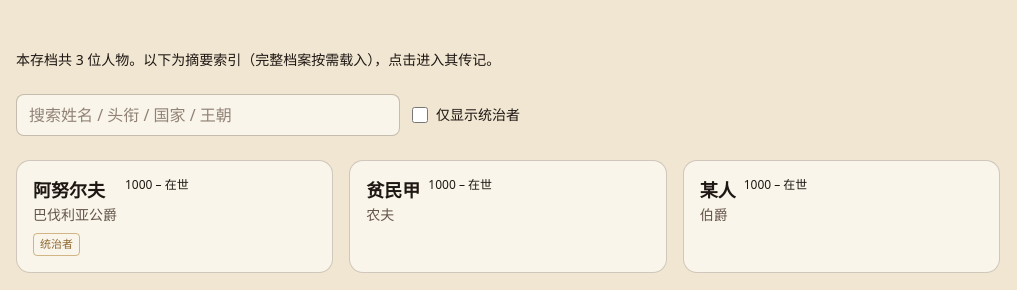
Test case: SelectPage（搜索 / 筛选 / 导航） › 按头衔搜索过滤
The width and height of the screenshot is (1017, 290).
Type "伯爵" into the field with placeholder "搜索姓名 / 头衔 / 国家 / 王朝" at [208, 115], box [16,94,400,136]
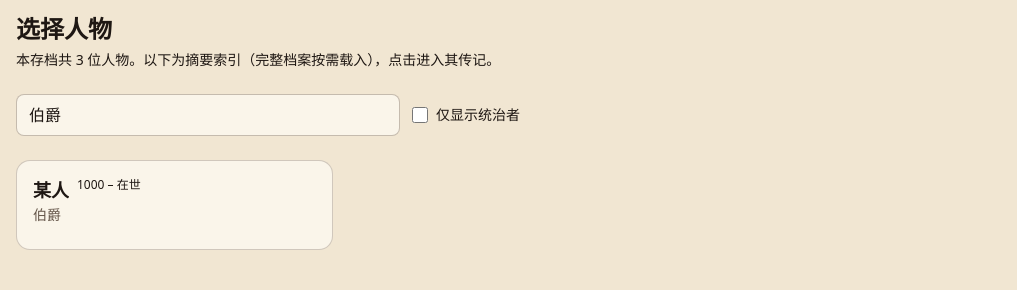
expect the heading "某人" is shown: met, box [33,177,69,205]
expect the button "阿努尔夫" is gone: met
